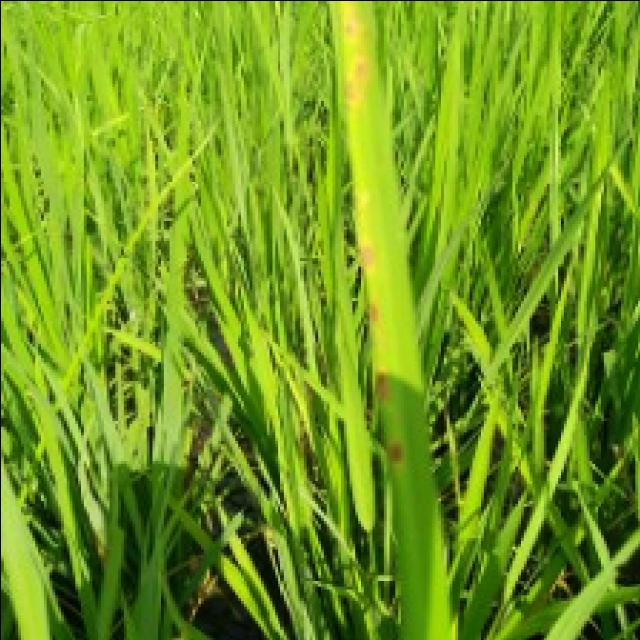Unhealthy: (343, 60, 360, 111), (374, 371, 389, 400), (351, 57, 371, 77), (386, 443, 402, 463), (360, 249, 374, 266), (369, 306, 377, 320)
